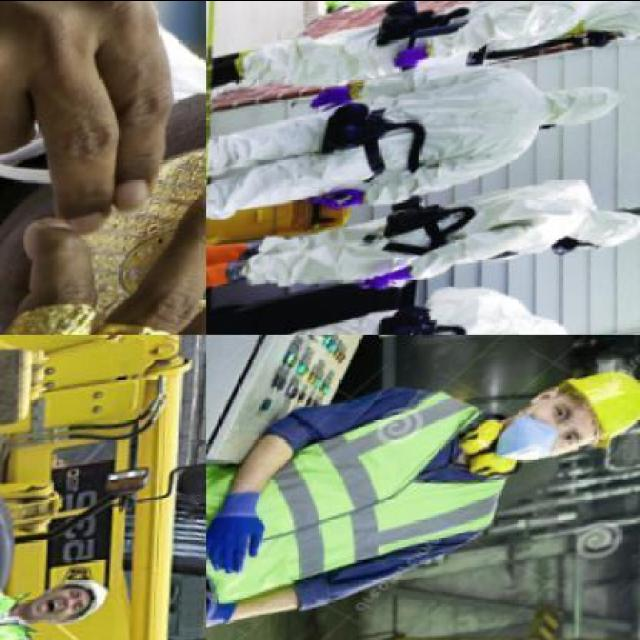helmet: (563, 365, 640, 460), (59, 568, 111, 636)
jacket: (203, 366, 519, 590)
